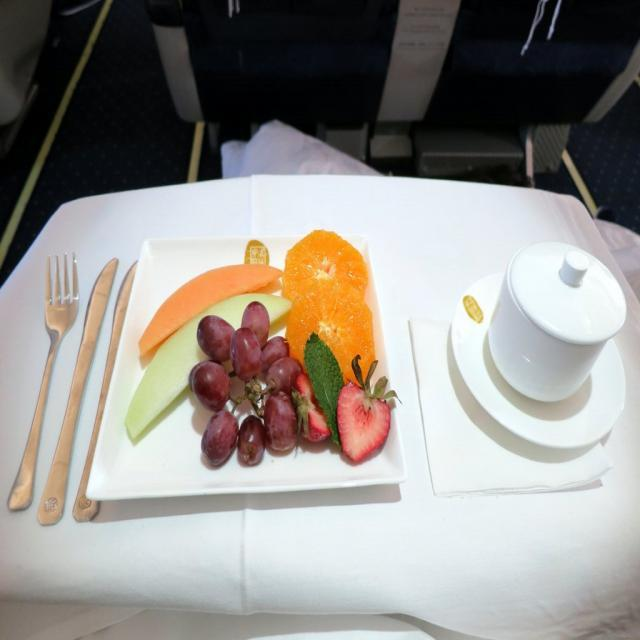ceramic plate: (81, 227, 411, 526), (442, 242, 626, 486)
